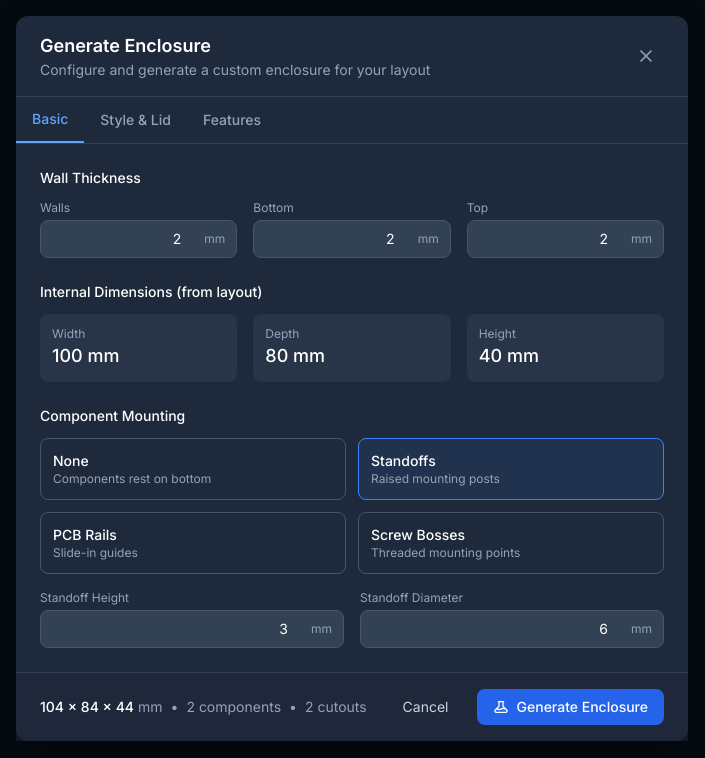
EnclosureGenerationDialog › switches between tabs
Step 1. Click the button "Style & Lid" → (136, 120), box [84,96,187,142]
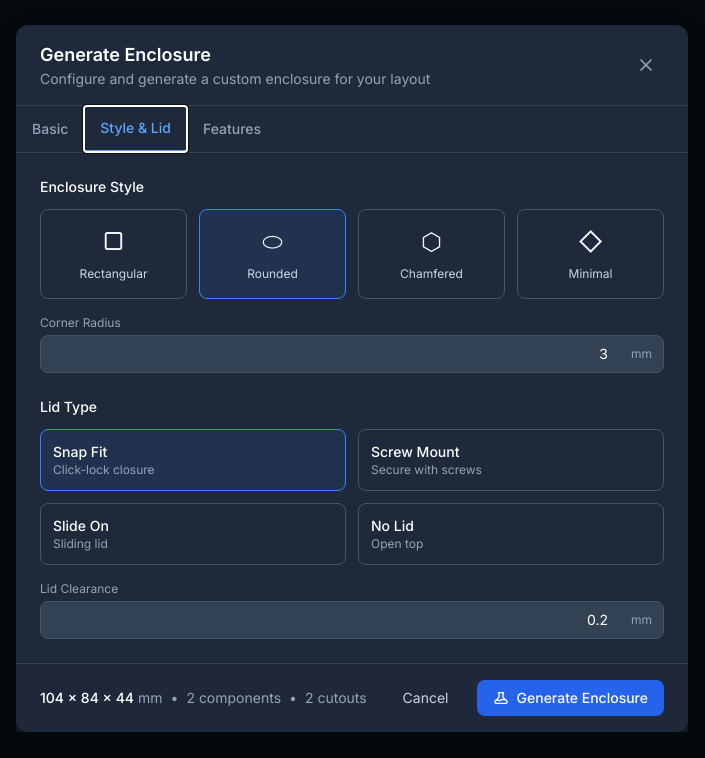
Now the heading "Enclosure Style" is shown, box [40,178,144,194]
